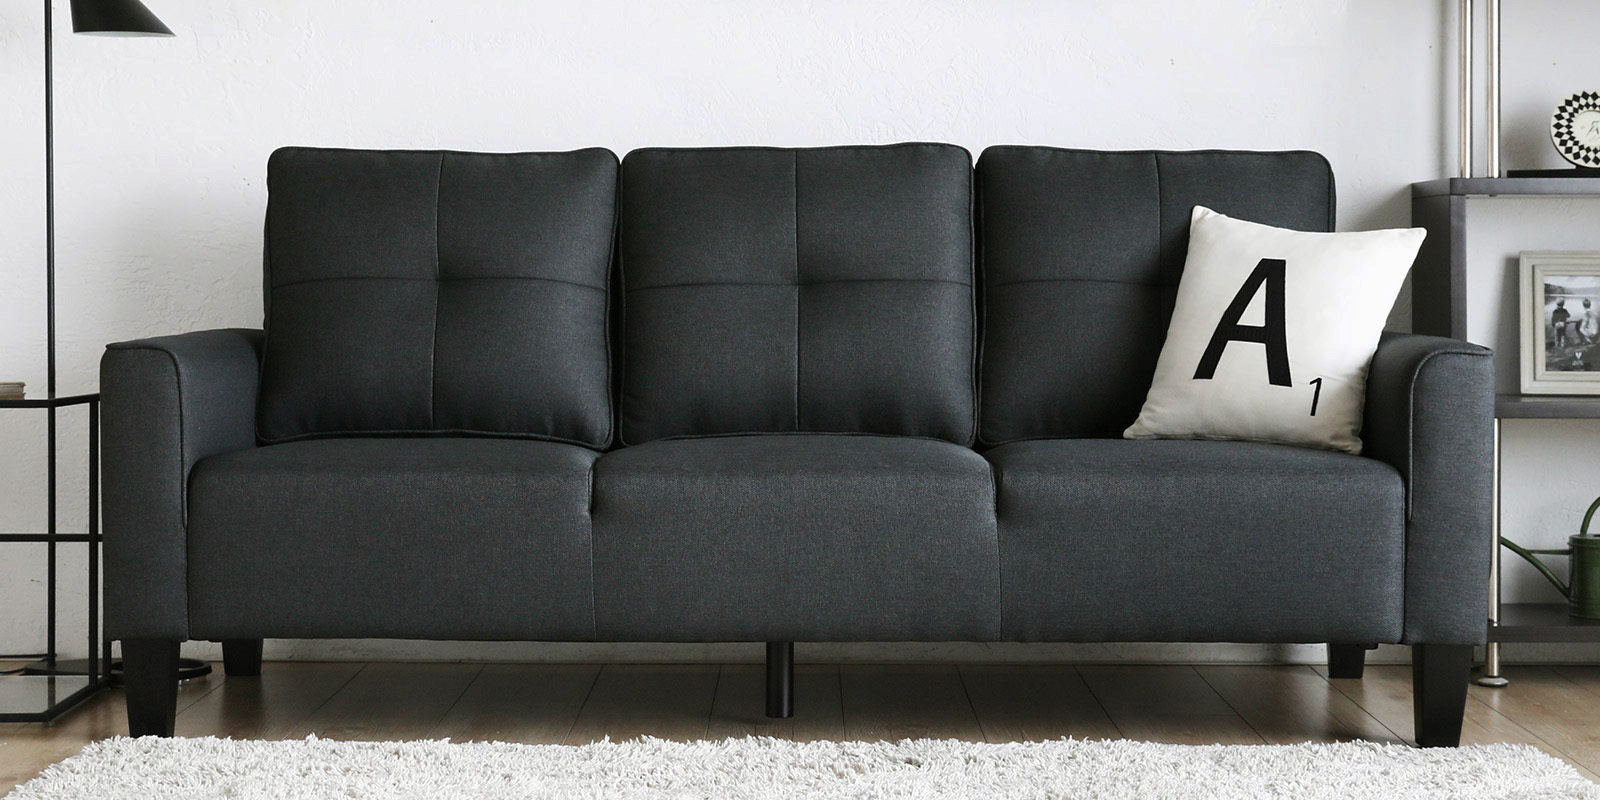Alice Three Seater Sofa in Grey Colour by Zofa: (91, 137, 1488, 766)
